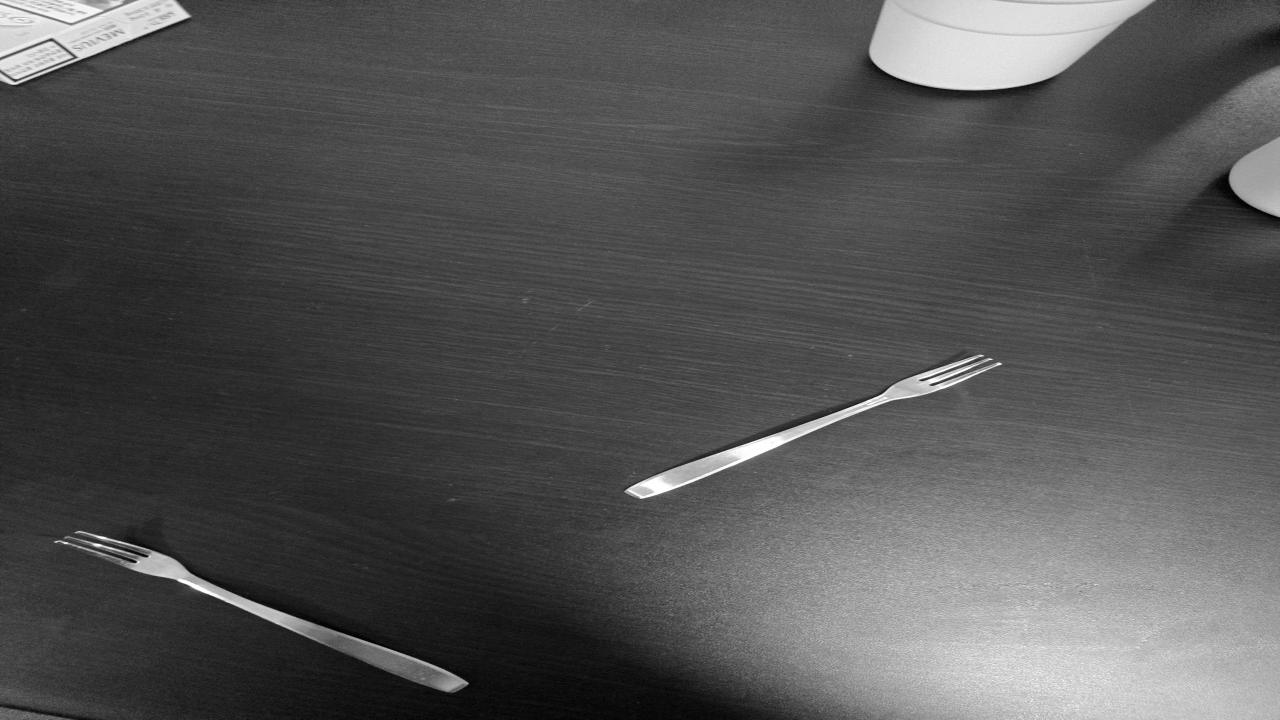fork: (54, 531, 467, 694), (629, 355, 1008, 500)
